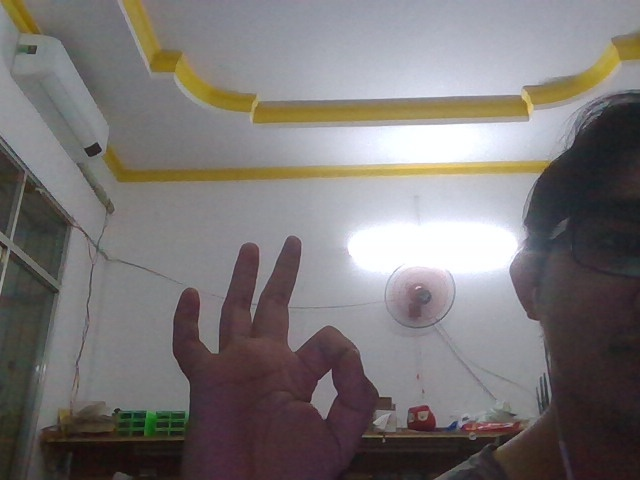okay: (142, 217, 401, 480)
